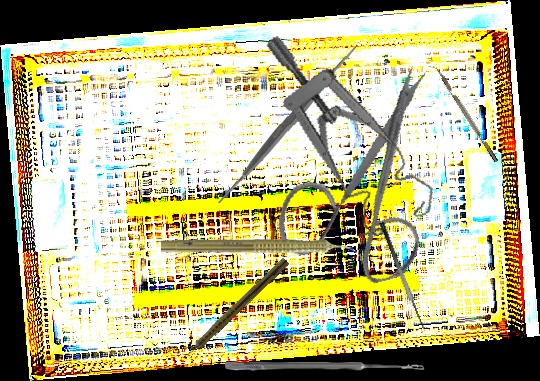Chopper: (427, 61, 499, 166)
Handpiece: (181, 255, 290, 361), (161, 237, 362, 260)
Iris Scissors: (246, 62, 477, 304)
Spatula Surgical: (208, 43, 368, 206), (378, 218, 433, 332)
Speculum: (262, 8, 442, 252)
Surgical Spoon: (225, 362, 425, 371)
